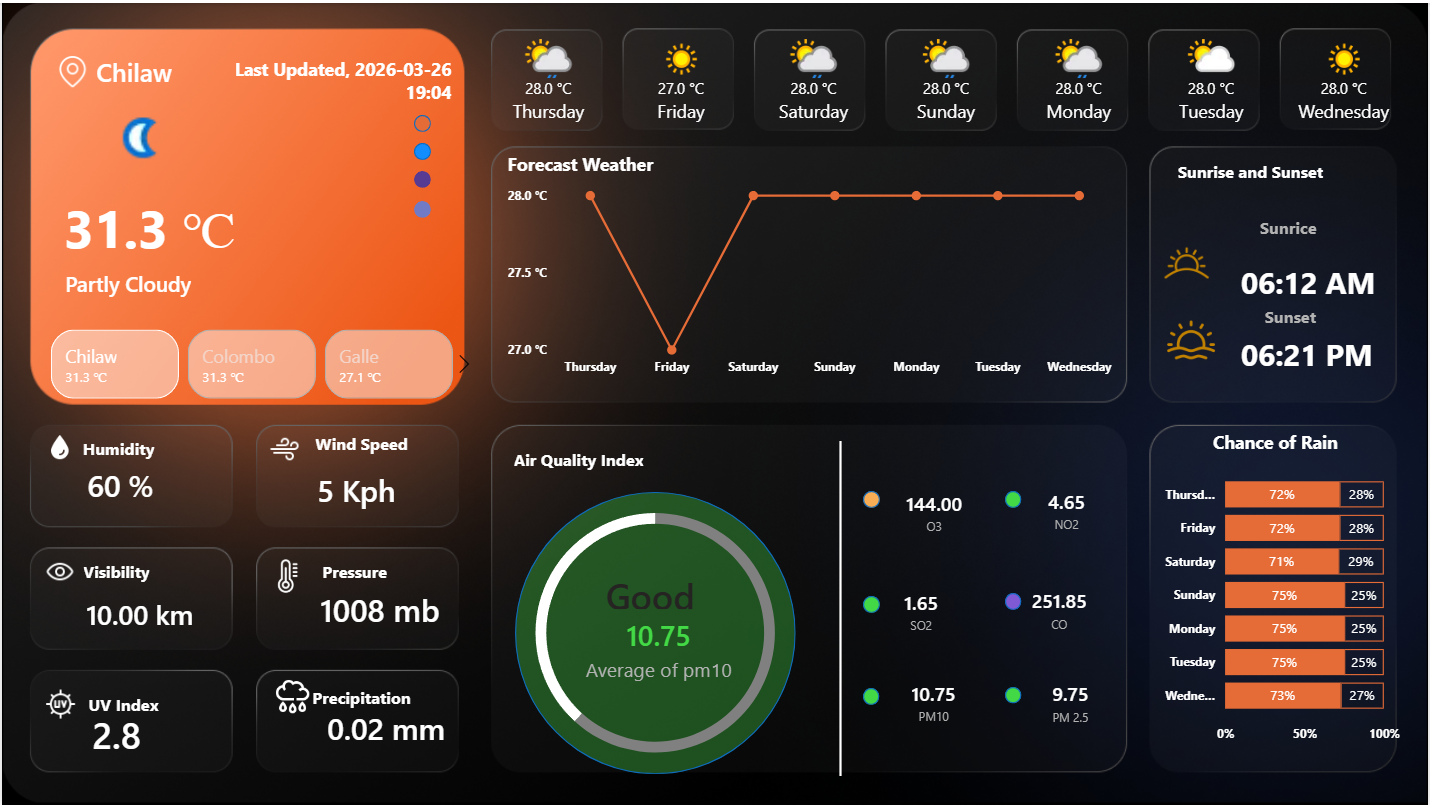

Layout of this report page (visuals, bound fields, positions):
{"tool":"powerbi","page":{"name":"Orange","canvas":[1280,720],"ordinal":0},"visuals":[{"type":"advancedSlicerVisual","fields":{"Values":["Currrent.City"]},"box":[19,288,411,72],"z":0},{"type":"shape","box":[55.9,126.1,232,149.9],"z":1000},{"type":"image","box":[49,39,28,45],"z":2000},{"type":"shape","box":[179.5,38.6,224,61.8],"z":3000},{"type":"cardVisual","fields":{"Data":["Min(Master_Table.condition_icon)"]},"box":[26,101,161,84],"z":4000},{"type":"image","box":[26.3,496.2,52.6,28.2],"z":5000},{"type":"image","box":[40.4,383.4,22.6,31],"z":6000},{"type":"image","box":[38.5,611.8,28.2,36.7],"z":7000},{"type":"image","box":[235.9,387.2,35.7,27.3],"z":8000},{"type":"image","box":[241.5,496.2,30.1,35.7],"z":9000},{"type":"image","box":[233.1,604.3,54.5,36.7],"z":10000},{"type":"shape","box":[260.3,370.3,125,50.7],"z":11000},{"type":"shape","box":[47,604.3,125,50.7],"z":12000},{"type":"shape","box":[40.4,484.9,125,50.7],"z":13000},{"type":"shape","box":[52.6,373.1,103.4,51.7],"z":14000},{"type":"shape","box":[253.7,484.9,125,50.7],"z":15000},{"type":"shape","box":[260.3,597.7,125,50.7],"z":16000},{"type":"cardVisual","fields":{"Data":["Min(Forcast_Hour.humidity)"]},"box":[48,394,124,74],"z":17000},{"type":"cardVisual","fields":{"Data":["Avg(Master_Table.precip_mm)"]},"box":[263,615,185.8,70.9],"z":18000},{"type":"cardVisual","fields":{"Data":["Avg(Currrent.Pressure_MB)"]},"box":[256.8,503.6,167,79.9],"z":19000},{"type":"cardVisual","fields":{"Data":["Avg(Currrent.Visibility)"]},"box":[46.7,505.4,205.6,83.5],"z":20000},{"type":"cardVisual","fields":{"Data":["Mesur.Wind_speed"]},"box":[253.7,395.7,175.7,79.9],"z":21000},{"type":"cardVisual","fields":{"Data":["Min(Forcast_Day.uv)"]},"box":[52,615,162,81],"z":22000},{"type":"shape","box":[1034.2,125.7,173.3,50.3],"z":23000},{"type":"shape","box":[1068.4,176.2,173,50],"z":24000},{"type":"shape","box":[1070.5,255.4,173,51.1],"z":25000},{"type":"image","box":[1036.1,281.4,63.6,42.7],"z":26000},{"type":"image","box":[1026.7,207.4,73,52.1],"z":27000},{"type":"shape","box":[448.6,383.8,137.9,50.4],"z":28000},{"type":"cardVisual","fields":{"Data":["Avg(Currrent.no2)"]},"box":[885.5,409,141,91.5],"z":29000},{"type":"cardVisual","fields":{"Data":["Avg(Currrent.so2)"]},"box":[757.5,498,135.5,95.5],"z":30000},{"type":"cardVisual","fields":{"Data":["Avg(Currrent.pm2_5)"]},"box":[885.5,579.5,148.5,98.5],"z":31000},{"type":"cardVisual","fields":{"Data":["Avg(Currrent.o3)"]},"box":[769,403,135,107],"z":32000},{"type":"cardVisual","fields":{"Data":["Avg(Currrent.co)"]},"box":[885.4,495.7,128,98.2],"z":33000},{"type":"cardVisual","fields":{"Data":["Avg(Currrent.pm10)"]},"box":[765,581,143,93],"z":34000},{"type":"shape","box":[773.2,438.4,15.2,15.2],"z":35000},{"type":"shape","box":[773.2,532.3,15.2,15.2],"z":36000},{"type":"shape","box":[900.6,438.4,14.6,15.2],"z":37000},{"type":"shape","box":[900.6,529.9,14.6,15.2],"z":38000},{"type":"shape","box":[900.6,614,14.6,14.6],"z":39000},{"type":"shape","box":[773.2,615.2,14.6,15.2],"z":40000},{"type":"shape","box":[724.5,393.2,56.6,300.7],"z":41000},{"type":"shape","box":[369.9,100.5,15.3,15.3],"z":42000},{"type":"shape","box":[369.9,125.7,15.3,15.3],"z":43000},{"type":"shape","box":[369.9,150.8,15.3,15.3],"z":44000},{"type":"shape","box":[369.9,177.8,15.3,15.3],"z":45000},{"type":"shape","box":[1112,219.1,129.4,61.8],"z":46000},{"type":"shape","box":[1112,287.7,129.4,57],"z":47000},{"type":"cardVisual","fields":{"Data":["Min(Currrent.City)"]},"box":[56,14,189,94],"z":48000},{"type":"cardVisual","fields":{"Data":["Min(Forcast_Day.condition_text)"]},"box":[28,219,276,63],"z":49000},{"type":"cardVisual","fields":{"Data":["Min(Forcast_Hour.condition_icon)"]},"box":[28,0,197,172],"z":50000},{"type":"advancedSlicerVisual","fields":{"Values":["Forcast_Day.Day_Name"]},"box":[430,14.4,837.6,111.3],"z":51000},{"type":"lineChart","title":"Forecast Weather","fields":{"Y":["Avg(Forcast_Day.avgtemp_c)"],"Category":["Forcast_Day.Day_Name"]},"box":[449.3,133.9,556.6,210.9],"z":52000},{"type":"hundredPercentStackedBarChart","title":"Chance of Rain","fields":{"Category":["Forcast_Day.Day_Name"],"Y":["CountNonNull(Forcast_Hour.chance_of_rain)","Currrent.Left_value_Rain"]},"box":[1027,383.3,232.5,290.9],"z":53000},{"type":"shape","box":[460.7,438.7,252,253.3],"z":54000},{"type":"donutChart","fields":{"Y":["Avg(Currrent.o3)","Mesur.Left_value_PM10"]},"box":[447.3,415.3,278.7,299.3],"z":55000},{"type":"cardVisual","title":"Unhealthy For SEnsitive O3","fields":{"Data":["Avg(Currrent.pm10)"]},"box":[408,459.4,364.9,239.3],"z":56000},{"type":"cardVisual","fields":{"Data":["Currrent.AQI Status Text"]},"box":[444.7,498.8,276,62.3],"z":57000}]}

Visuals, with their boxes in screenshot pixels (x1, y1, x2, y2), scaled from the page's 1280x720 canvas onto the 1430x805 screenshot:
advancedSlicerVisual - Currrent.City: locate(21, 322, 480, 402)
shape: locate(62, 141, 322, 309)
image: locate(55, 44, 86, 94)
shape: locate(201, 43, 451, 112)
cardVisual - Min(Master_Table.condition_icon): locate(29, 113, 209, 207)
image: locate(29, 555, 88, 586)
image: locate(45, 429, 70, 463)
image: locate(43, 684, 75, 725)
image: locate(264, 433, 303, 463)
image: locate(270, 555, 303, 595)
image: locate(260, 676, 321, 717)
shape: locate(291, 414, 430, 471)
shape: locate(53, 676, 192, 732)
shape: locate(45, 542, 185, 599)
shape: locate(59, 417, 174, 475)
shape: locate(283, 542, 423, 599)
shape: locate(291, 668, 430, 725)
cardVisual - Min(Forcast_Hour.humidity): locate(54, 441, 192, 523)
cardVisual - Avg(Master_Table.precip_mm): locate(294, 688, 501, 767)
cardVisual - Avg(Currrent.Pressure_MB): locate(287, 563, 473, 652)
cardVisual - Avg(Currrent.Visibility): locate(52, 565, 282, 658)
cardVisual - Mesur.Wind_speed: locate(283, 442, 480, 532)
cardVisual - Min(Forcast_Day.uv): locate(58, 688, 239, 778)
shape: locate(1155, 141, 1349, 197)
shape: locate(1194, 197, 1387, 253)
shape: locate(1196, 286, 1389, 343)
image: locate(1158, 315, 1229, 362)
image: locate(1147, 232, 1229, 290)
shape: locate(501, 429, 655, 485)
cardVisual - Avg(Currrent.no2): locate(989, 457, 1147, 560)
cardVisual - Avg(Currrent.so2): locate(846, 557, 998, 664)
cardVisual - Avg(Currrent.pm2_5): locate(989, 648, 1155, 758)
cardVisual - Avg(Currrent.o3): locate(859, 451, 1010, 570)
cardVisual - Avg(Currrent.co): locate(989, 554, 1132, 664)
cardVisual - Avg(Currrent.pm10): locate(855, 650, 1014, 754)
shape: locate(864, 490, 881, 507)
shape: locate(864, 595, 881, 612)
shape: locate(1006, 490, 1022, 507)
shape: locate(1006, 592, 1022, 609)
shape: locate(1006, 686, 1022, 703)
shape: locate(864, 688, 880, 705)
shape: locate(809, 440, 873, 776)
shape: locate(413, 112, 430, 129)
shape: locate(413, 141, 430, 158)
shape: locate(413, 169, 430, 186)
shape: locate(413, 199, 430, 216)
shape: locate(1242, 245, 1387, 314)
shape: locate(1242, 322, 1387, 385)
cardVisual - Min(Currrent.City): locate(63, 16, 274, 121)
cardVisual - Min(Forcast_Day.condition_text): locate(31, 245, 340, 315)
cardVisual - Min(Forcast_Hour.condition_icon): locate(31, 0, 251, 192)
advancedSlicerVisual - Forcast_Day.Day_Name: locate(480, 16, 1416, 141)
"Forecast Weather" lineChart: locate(502, 150, 1124, 386)
"Chance of Rain" hundredPercentStackedBarChart: locate(1147, 429, 1407, 754)
shape: locate(515, 490, 796, 774)
donutChart - Avg(Currrent.o3) x Mesur.Left_value_PM10: locate(500, 464, 811, 799)
"Unhealthy For SEnsitive O3" cardVisual: locate(456, 514, 863, 781)
cardVisual - Currrent.AQI Status Text: locate(497, 558, 805, 627)
